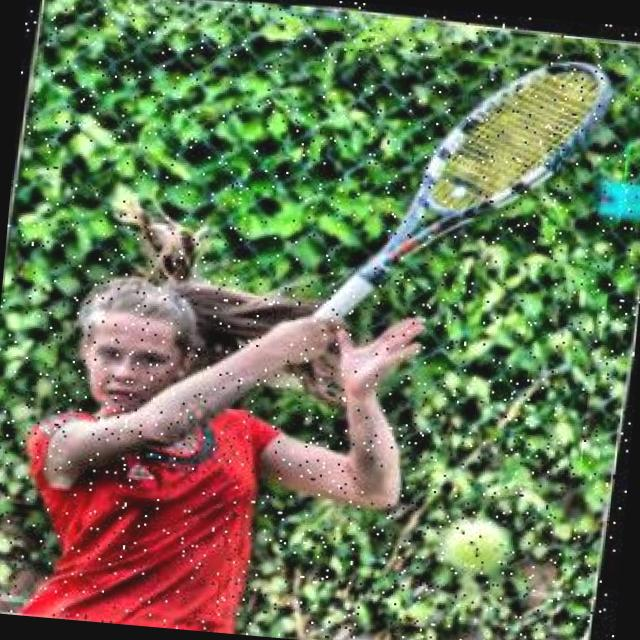Tennis Ball: (441, 509, 516, 574)
